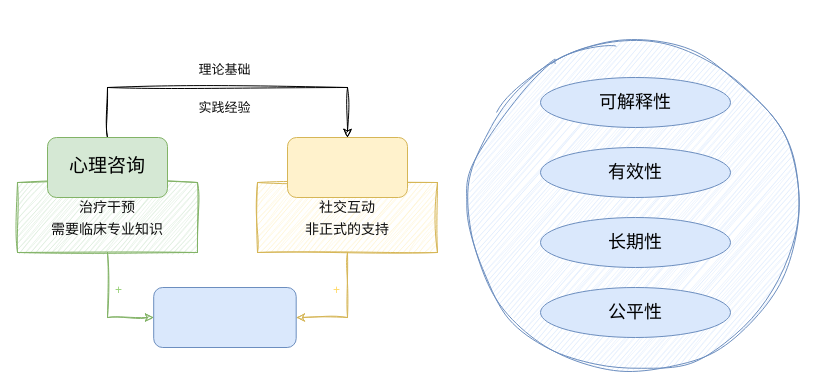
Image size: 816x389. Some labels were removed from this diagram. The centre of each missing label's shape, as x and y in pixels:
"心理健康" goes at point 224,317.
"情感支持" goes at point 347,167.
